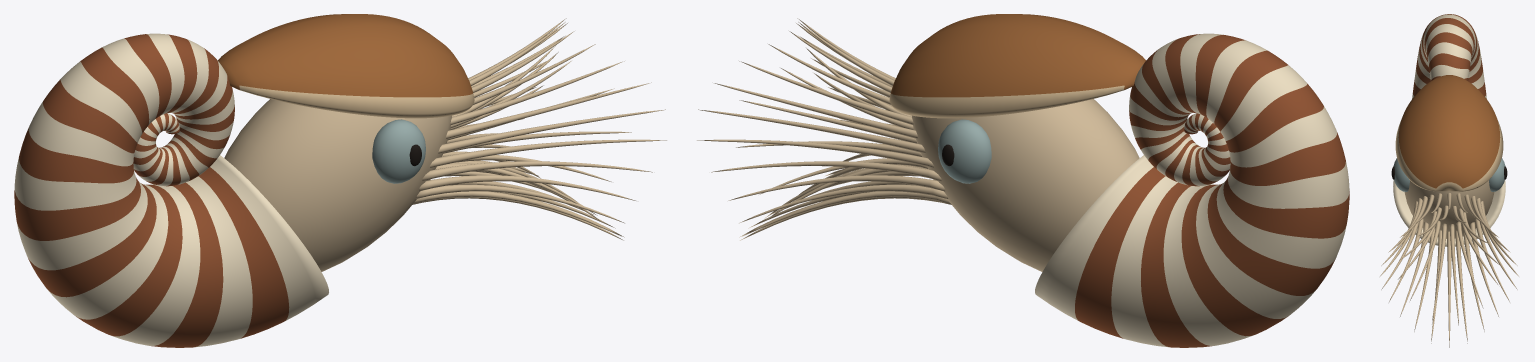
3 views of the same model, side by side, from view 1: azimuth 30°, elevation 25°; view 2: azimuth 150°, elevation 25°; view 3: azimuth 270°, elevation 25° (orthographic). The views are drawn at different scales.
Parts seen in each view (by area): view 1: Closed_planispiral_shell_with_mouth_rim_and_recess, Closed_aperture_mantle_body, Broad_sloping_closed_hood_with_pale_edge, Left_closed_eye, Tentacle_0_11_closed_root_and_tip, Tentacle_0_12_closed_root_and_tip, Tentacle_0_10_closed_root_and_tip, Tentacle_0_13_closed_root_and_tip, Tentacle_0_14_closed_root_and_tip, Tentacle_0_09_closed_root_and_tip, Tentacle_0_15_closed_root_and_tip, Tentacle_0_08_closed_root_and_tip (+5 smaller); view 2: Closed_planispiral_shell_with_mouth_rim_and_recess, Closed_aperture_mantle_body, Broad_sloping_closed_hood_with_pale_edge, Right_closed_eye, Tentacle_0_01_closed_root_and_tip, Tentacle_0_00_closed_root_and_tip, Tentacle_0_02_closed_root_and_tip, Tentacle_0_23_closed_root_and_tip, Tentacle_0_22_closed_root_and_tip, Tentacle_0_03_closed_root_and_tip, Tentacle_0_21_closed_root_and_tip, Tentacle_0_04_closed_root_and_tip (+6 smaller); view 3: Broad_sloping_closed_hood_with_pale_edge, Closed_planispiral_shell_with_mouth_rim_and_recess, Closed_aperture_mantle_body, Tentacle_0_18_closed_root_and_tip, Tentacle_0_19_closed_root_and_tip, Tentacle_1_09_closed_root_and_tip, Tentacle_1_08_closed_root_and_tip, Left_closed_eye, Right_closed_eye, Tentacle_1_10_closed_root_and_tip, Tentacle_0_20_closed_root_and_tip, Tentacle_0_16_closed_root_and_tip (+22 smaller).
Part boxes in pixels (box(x1,y1,x2,y2)): Closed_planispiral_shell_with_mouth_rim_and_recess: box(14, 33, 328, 347); Closed_aperture_mantle_body: box(224, 99, 452, 271); Broad_sloping_closed_hood_with_pale_edge: box(218, 14, 474, 118); Left_closed_eye: box(372, 119, 425, 183); Tentacle_0_11_closed_root_and_tip: box(429, 139, 666, 167); Tentacle_0_12_closed_root_and_tip: box(422, 161, 652, 180); Tentacle_0_10_closed_root_and_tip: box(438, 109, 665, 153); Tentacle_0_13_closed_root_and_tip: box(419, 175, 635, 200); Tentacle_0_14_closed_root_and_tip: box(416, 184, 624, 223); Tentacle_0_09_closed_root_and_tip: box(446, 82, 651, 138); Tentacle_0_15_closed_root_and_tip: box(413, 191, 621, 236); Tentacle_0_08_closed_root_and_tip: box(450, 61, 624, 124); Closed_planispiral_shell_with_mouth_rim_and_recess: box(1035, 33, 1349, 347); Closed_aperture_mantle_body: box(912, 99, 1139, 271); Broad_sloping_closed_hood_with_pale_edge: box(889, 14, 1145, 118); Right_closed_eye: box(938, 119, 991, 183); Tentacle_0_01_closed_root_and_tip: box(697, 139, 934, 167); Tentacle_0_00_closed_root_and_tip: box(711, 161, 941, 180); Tentacle_0_02_closed_root_and_tip: box(698, 109, 925, 153); Tentacle_0_23_closed_root_and_tip: box(728, 175, 944, 200); Tentacle_0_22_closed_root_and_tip: box(739, 184, 948, 223); Tentacle_0_03_closed_root_and_tip: box(714, 83, 917, 138); Tentacle_0_21_closed_root_and_tip: box(742, 191, 950, 236); Tentacle_0_04_closed_root_and_tip: box(739, 61, 913, 125); Broad_sloping_closed_hood_with_pale_edge: box(1395, 75, 1503, 191); Closed_planispiral_shell_with_mouth_rim_and_recess: box(1393, 14, 1505, 246); Closed_aperture_mantle_body: box(1404, 180, 1494, 238); Tentacle_0_18_closed_root_and_tip: box(1446, 231, 1451, 347); Tentacle_0_19_closed_root_and_tip: box(1455, 230, 1467, 343); Tentacle_1_09_closed_root_and_tip: box(1449, 224, 1458, 325); Tentacle_1_08_closed_root_and_tip: box(1432, 223, 1447, 322); Left_closed_eye: box(1393, 158, 1409, 191); Right_closed_eye: box(1489, 158, 1505, 191); Tentacle_1_10_closed_root_and_tip: box(1456, 222, 1483, 308); Tentacle_0_20_closed_root_and_tip: box(1463, 229, 1484, 331); Tentacle_0_16_closed_root_and_tip: box(1414, 228, 1435, 331).
Bounding box in the file's own units: 0.3459 × 0.1749 × 0.118.
